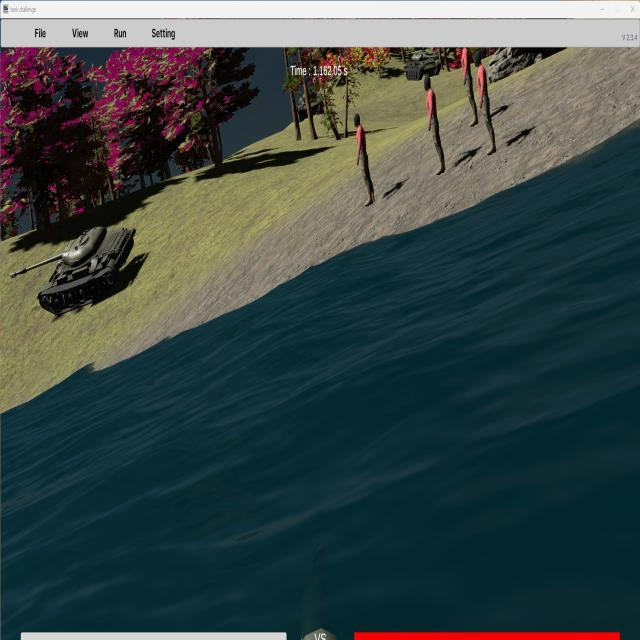Human: (424, 73, 447, 174), (475, 49, 496, 156), (354, 112, 377, 207), (461, 34, 477, 127), (461, 32, 476, 125)
Tank: (10, 224, 137, 317), (404, 48, 442, 81)
